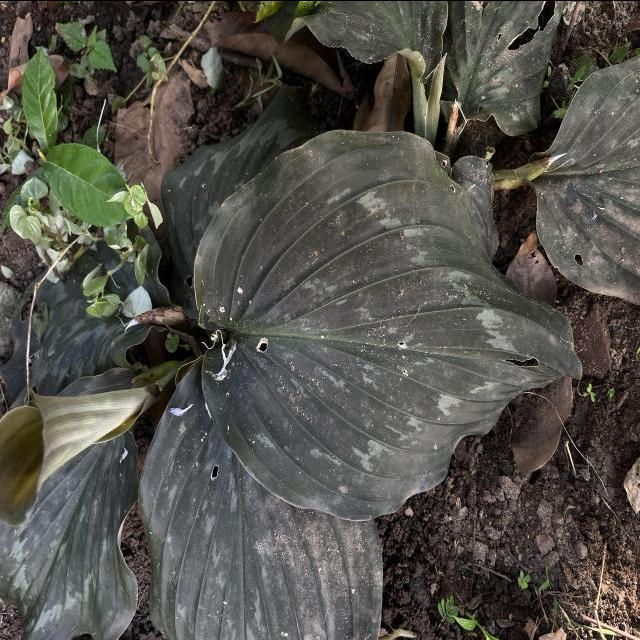Kaempferia galanga linn: (190, 124, 586, 526)
